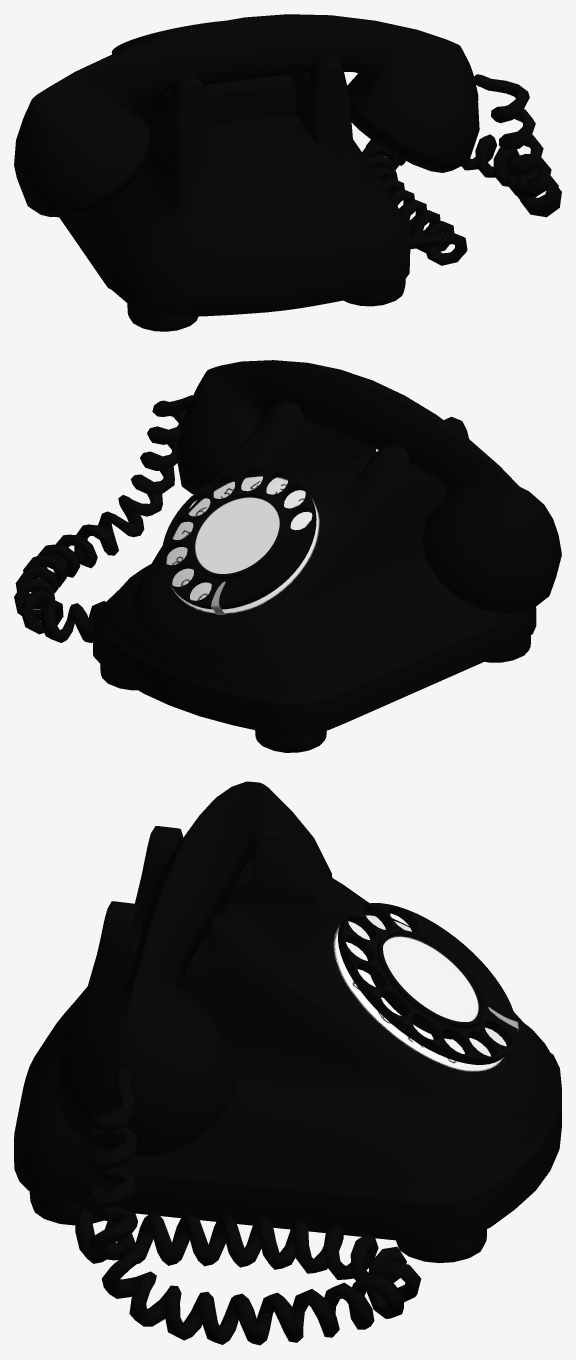
The model's file is phone.glb.
3 views of the same model, one above another, from view 1: azimuth 30°, elevation 25°; view 2: azimuth 150°, elevation 25°; view 3: azimuth 270°, elevation 25° (orthographic). The views are drawn at different scales.
Parts seen in each view (by area): view 1: Vintage rotary phone; view 2: Vintage rotary phone; view 3: Vintage rotary phone.
Boxes of the visible parts, x1,y1,x2,y2 form: Vintage rotary phone: (14,14,561,331); Vintage rotary phone: (14,360,561,752); Vintage rotary phone: (14,781,561,1345).
Size of the model in its own units: 0.3102 by 0.149 by 0.2252.
Materials: 1 (1 with a texture image).
